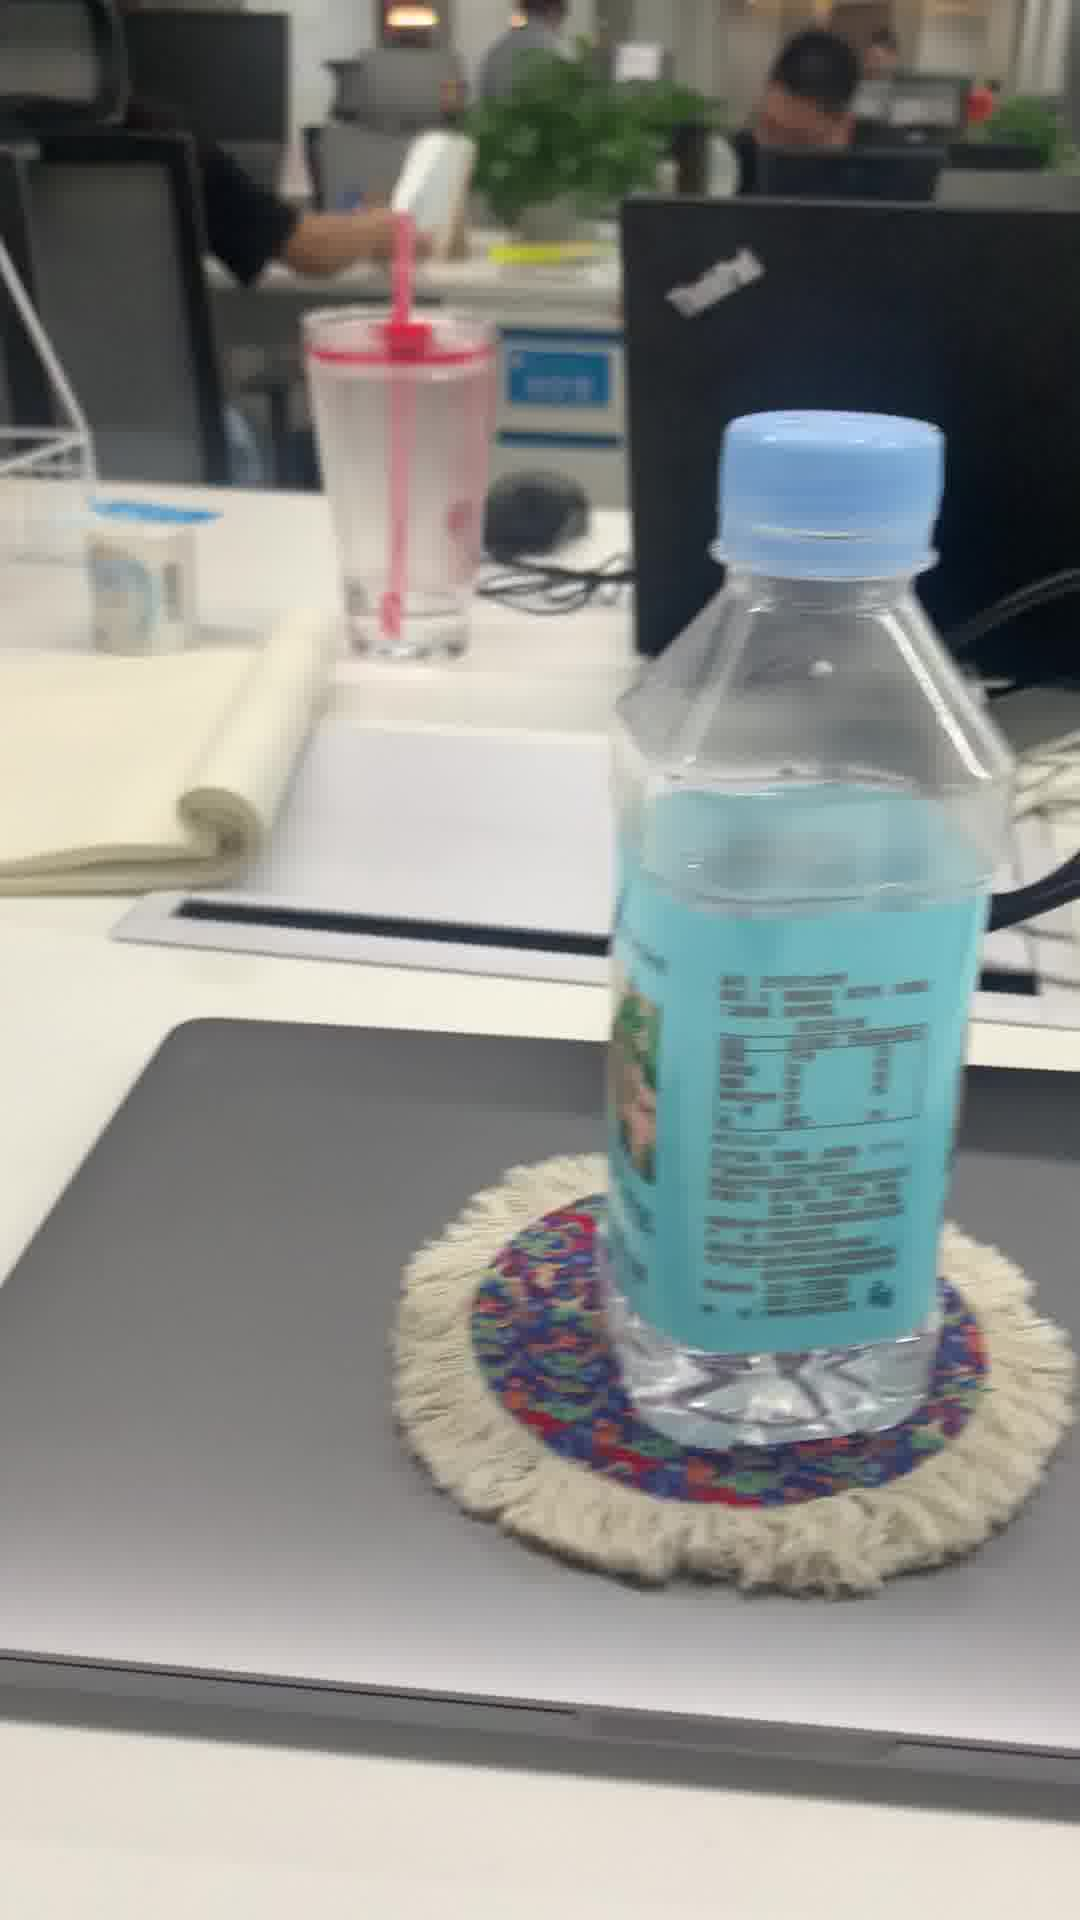水瓶: (578, 404, 1015, 1474)
